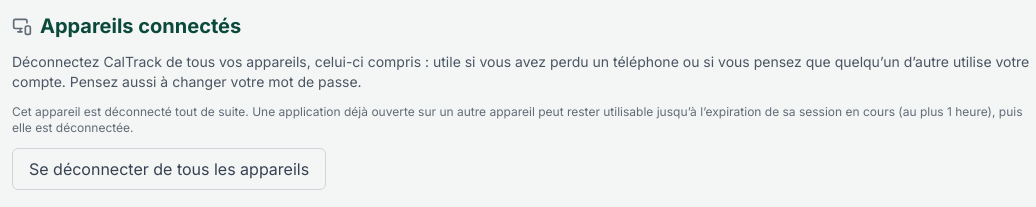
SignOutEverywhere › demande une confirmation avant de déconnecter tous les appareils
Later steps or results of the test are not shown.
Expected: the text "au plus 1 heure" is shown, [12,104,1022,135]
Click the button "Se déconnecter de tous les appareils" at (169, 169), box [12,148,326,190]
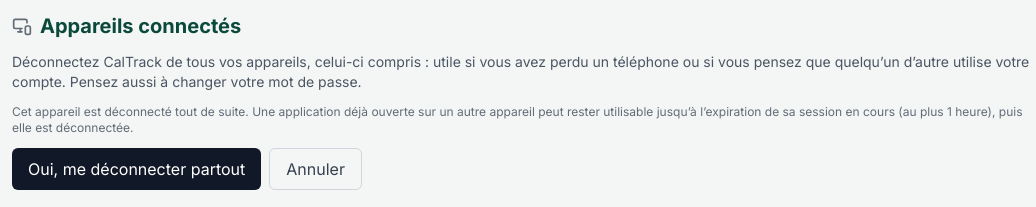
Click the button "Annuler" at (316, 169), box [269,148,362,190]
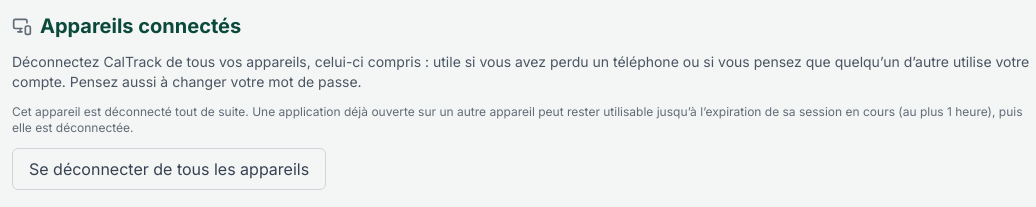
Expected: the button "Se déconnecter de tous les appareils" is shown, [12,148,326,190]
